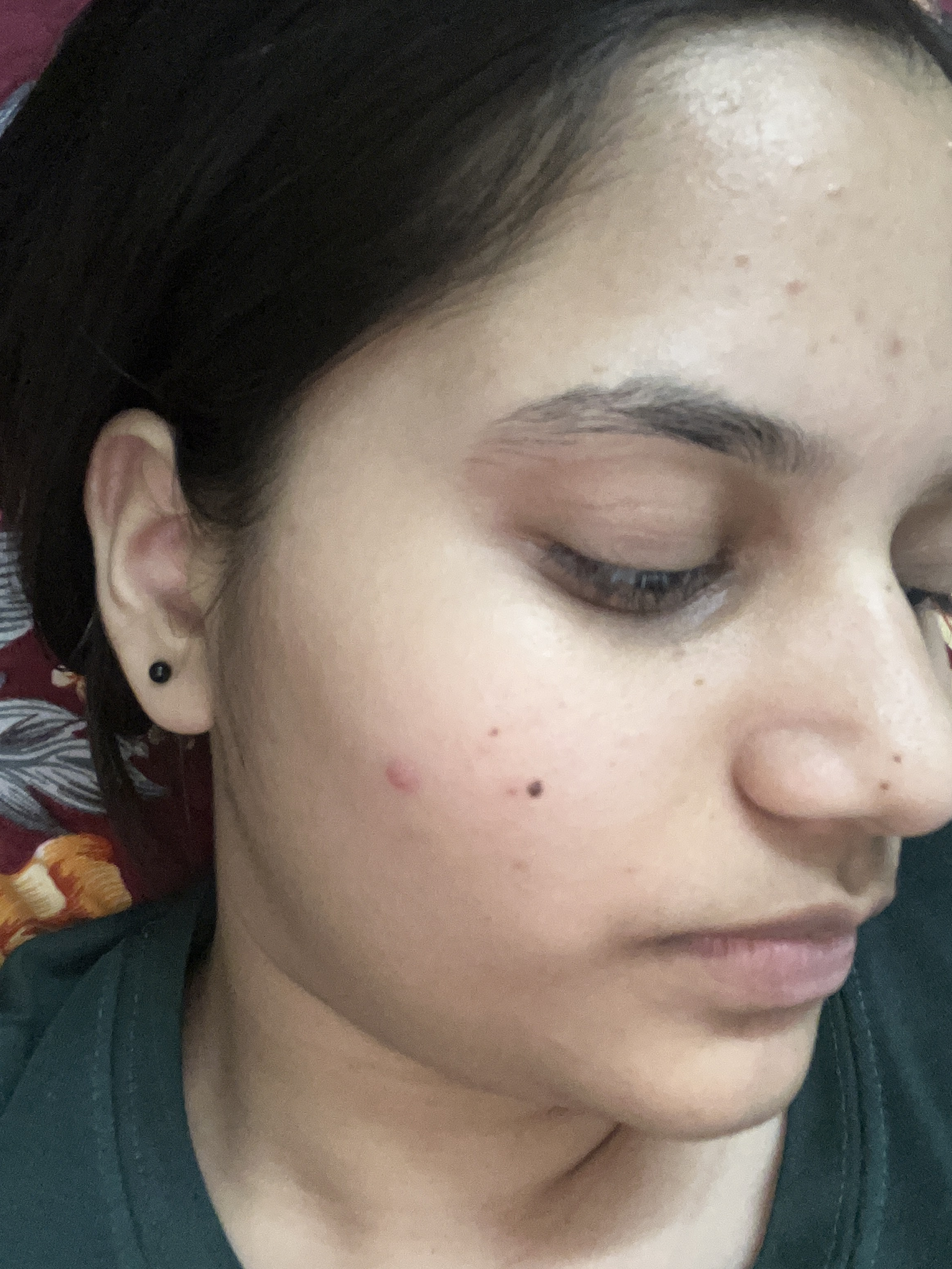closed_comedone: (779, 148, 824, 186)
papule: (366, 750, 429, 798)
